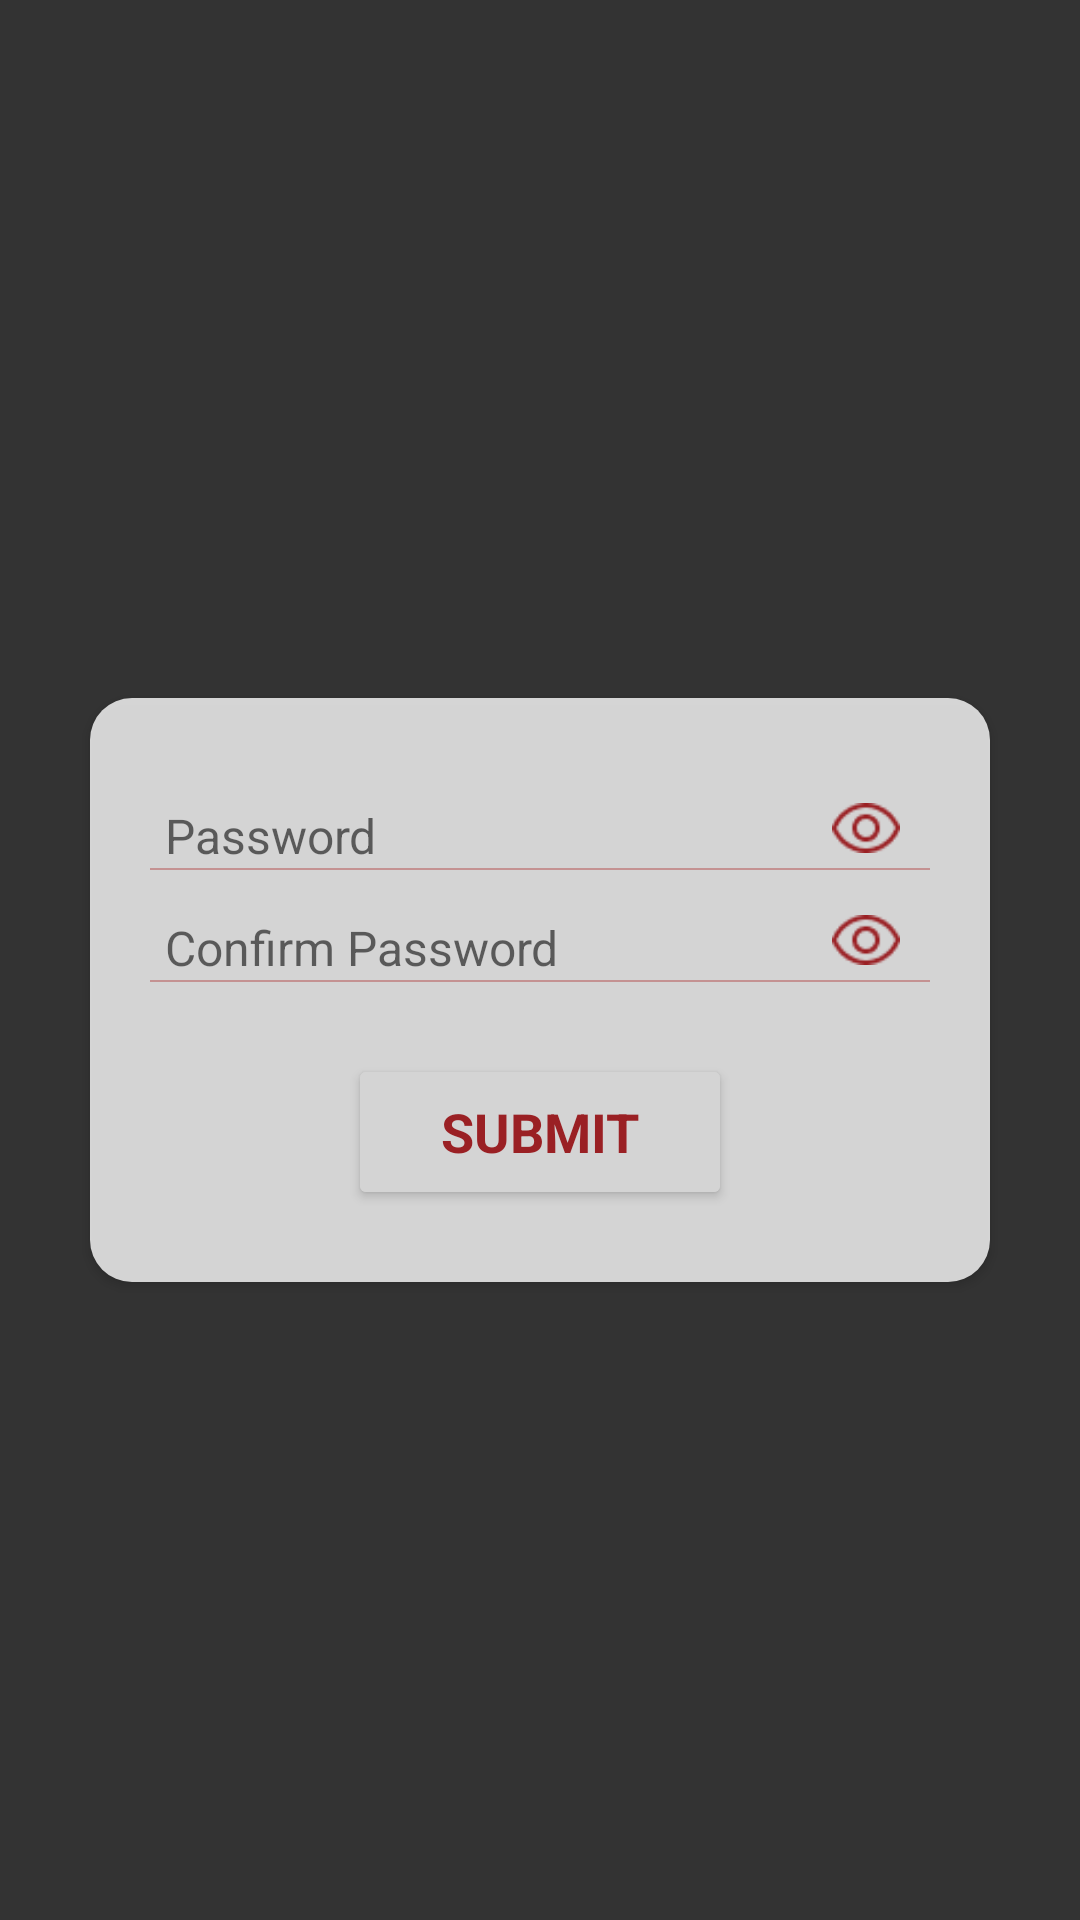

Where icons sit on this 1080w x 1920h app screen, as (x1, y1, x2, y2):
eye: (832, 803, 900, 853), (832, 915, 900, 965)
